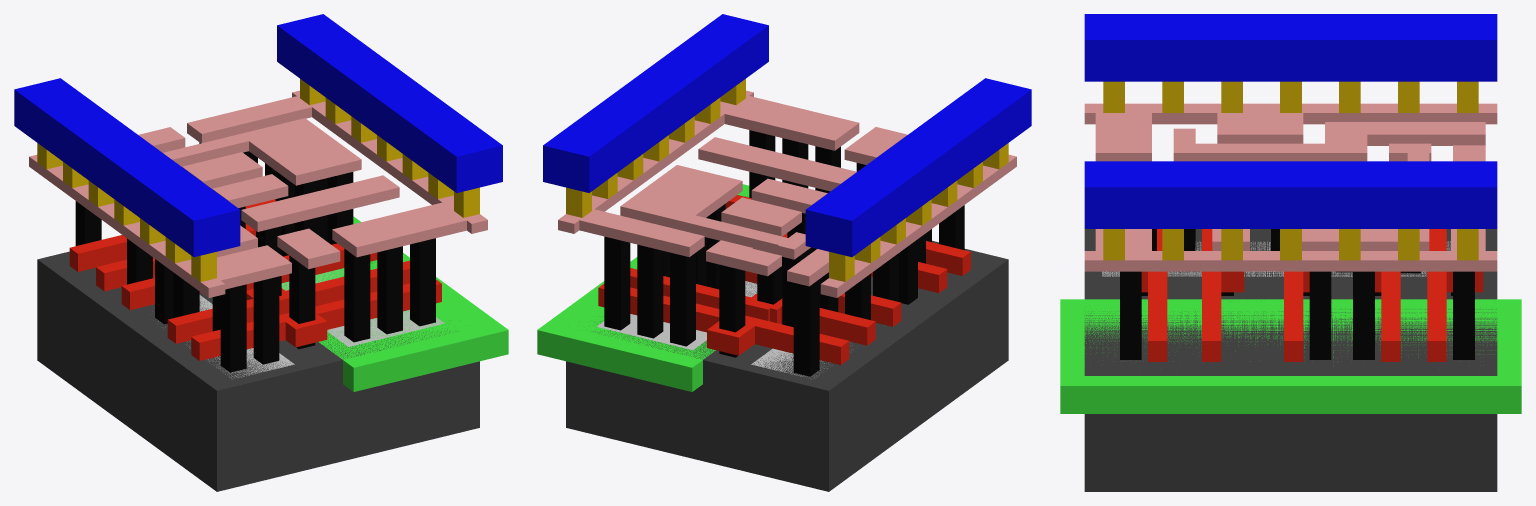
Rendered from sky130_fd_sc_hd__o32ai_1.obj.
3 renders of one model, left to right at view 1: azimuth 30°, elevation 25°; view 2: azimuth 150°, elevation 25°; view 3: azimuth 270°, elevation 25°, orthographic. The views are drawn at different scales.
Parts seen in each view (by area): view 1: subs, metal1, li, licon, poly, nwell, mcon, tap, diff; view 2: subs, metal1, li, licon, poly, nwell, mcon, tap, diff; view 3: metal1, subs, li, nwell, poly, mcon, licon, diff.
Boxes of the visible parts, box(x1,y1,x2,y2) form: subs: box(37, 251, 479, 491); metal1: box(14, 14, 502, 257); li: box(29, 90, 487, 297); licon: box(75, 142, 435, 372); poly: box(69, 199, 441, 360); nwell: box(281, 216, 508, 391); mcon: box(37, 79, 479, 281); tap: box(281, 268, 444, 346); diff: box(158, 295, 294, 378); subs: box(566, 196, 1008, 491); metal1: box(543, 14, 1031, 257); li: box(558, 90, 1016, 297); licon: box(604, 130, 964, 376); poly: box(598, 195, 970, 364); nwell: box(537, 184, 749, 391); mcon: box(566, 79, 1008, 281); tap: box(596, 281, 757, 350); diff: box(751, 348, 832, 378); metal1: box(1084, 14, 1497, 228); subs: box(1084, 229, 1497, 491); li: box(1084, 103, 1497, 271); nwell: box(1060, 299, 1521, 413); poly: box(1141, 229, 1483, 361); mcon: box(1103, 81, 1478, 260); licon: box(1120, 229, 1474, 359); diff: box(1102, 241, 1450, 276).
Bounding box in the file's own units: 3.2 × 2.74 × 3.6.
